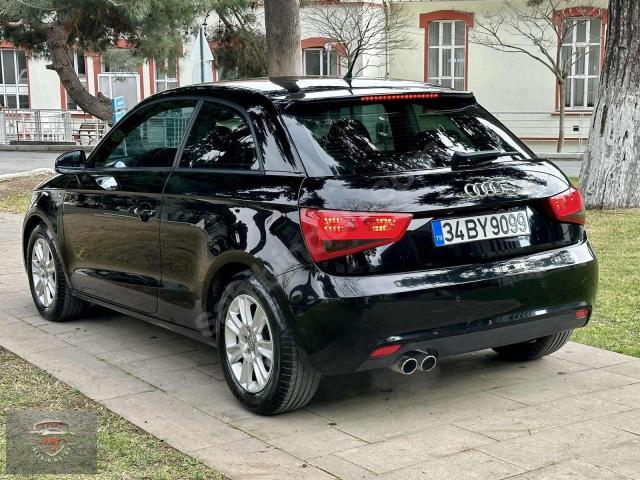plaka: (429, 210, 530, 246)
